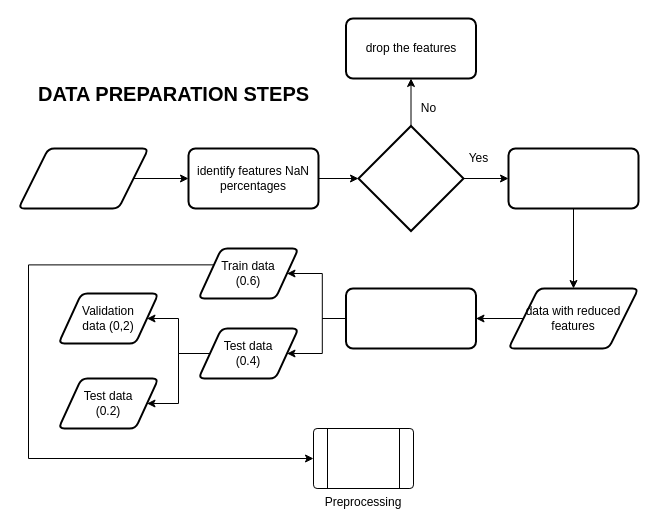
The diagram is 656 pixels wide and 526 high, and some of its shapes have lost their labels. The shapes that lost their labels are listed below. From the top down, each one's centre as x and y in pixels, then its label:
(83,178): raw data
(410,178): is NaN values below 10%
(573,178): keep for missing value handling
(410,318): Split dataset (train:valid:test 60:20:20)
